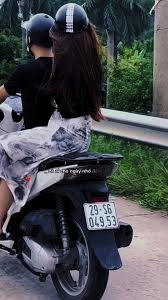Bien-so: (85, 202, 122, 229)
